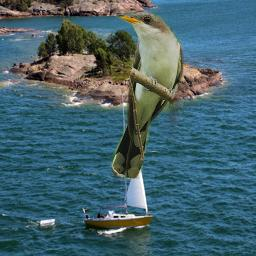Cuckoo: (111, 12, 184, 179)
